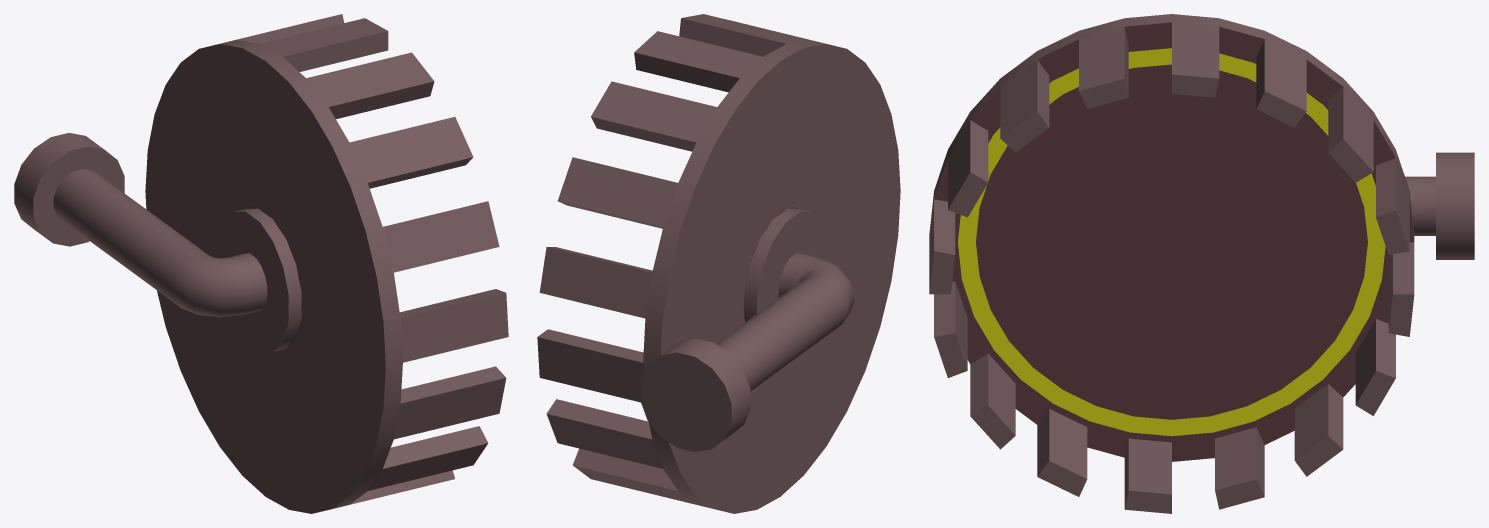
File: WheelieRun.fbx
The picture shows the model from 3 angles, left to right: view 1: azimuth 30°, elevation 25°; view 2: azimuth 150°, elevation 25°; view 3: azimuth 270°, elevation 25°; orthographic projection.
Parts seen in each view (by area): view 1: WheelieRunner, WheelieRunBase; view 2: WheelieRunner, WheelieRunBase; view 3: WheelieRunner, WheelieRunBase.
Part boxes in pixels (x1,y1,x2,y2): WheelieRunner: (145, 14, 508, 513); WheelieRunBase: (14, 133, 301, 352); WheelieRunner: (537, 14, 900, 513); WheelieRunBase: (640, 208, 854, 452); WheelieRunner: (929, 14, 1414, 513); WheelieRunBase: (1405, 152, 1474, 259).
Bounding box in the file's own units: 4.24 × 7.88 × 8.85.
